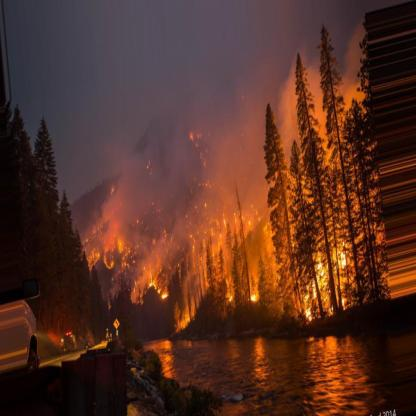fire: (190, 168, 384, 330), (84, 174, 199, 317)
